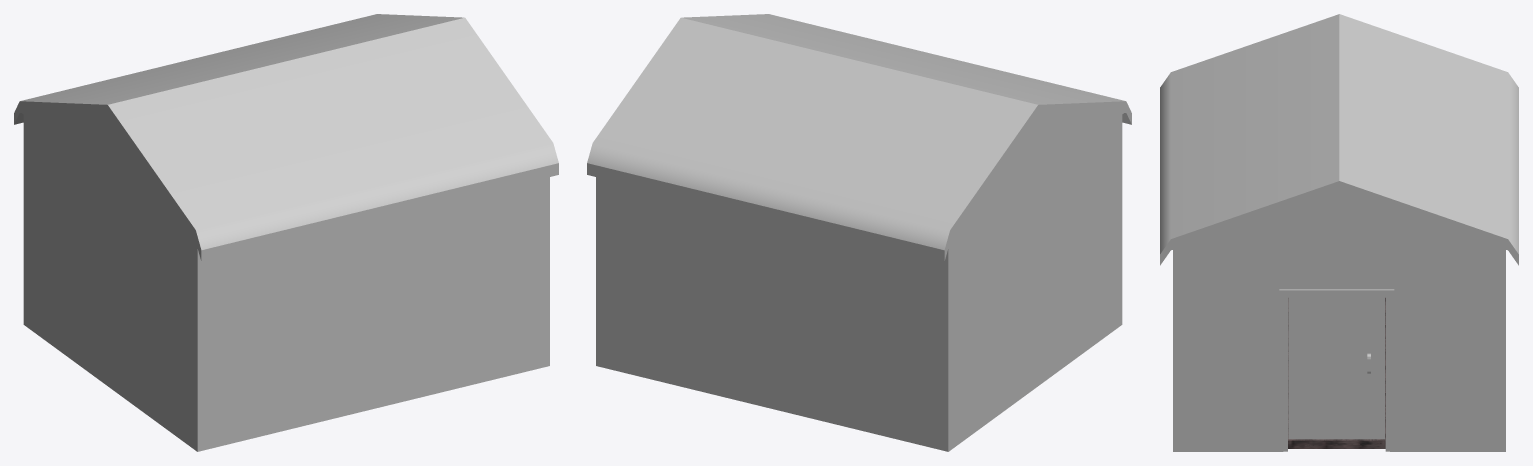
Rendered from DOE Shed.fbx.
3 views of the same model, side by side, from view 1: azimuth 30°, elevation 25°; view 2: azimuth 150°, elevation 25°; view 3: azimuth 270°, elevation 25° (orthographic). The views are drawn at different scales.
Visible parts, largest first — view 1: Exterior_Walls, Roof; view 2: Exterior_Walls, Roof; view 3: Roof, Exterior_Walls, Door, Door_Frame, Floor.
Boxes of the visible parts, box(x1,y1,x2,y2) form: Exterior_Walls: box(23, 115, 549, 451); Roof: box(14, 14, 558, 261); Exterior_Walls: box(596, 115, 1122, 451); Roof: box(587, 14, 1131, 261); Roof: box(1160, 14, 1518, 265); Exterior_Walls: box(1173, 250, 1505, 451); Door: box(1288, 297, 1384, 439); Door_Frame: box(1279, 289, 1394, 451); Floor: box(1288, 297, 1385, 448).
Size of the model in its own units: 10.65 by 8.08 by 9.66.
